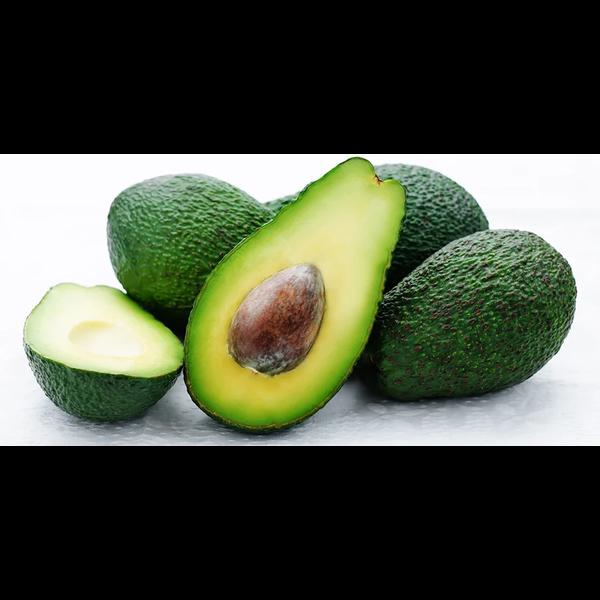unripe: (356, 228, 577, 402), (263, 163, 489, 293), (107, 173, 276, 339)
